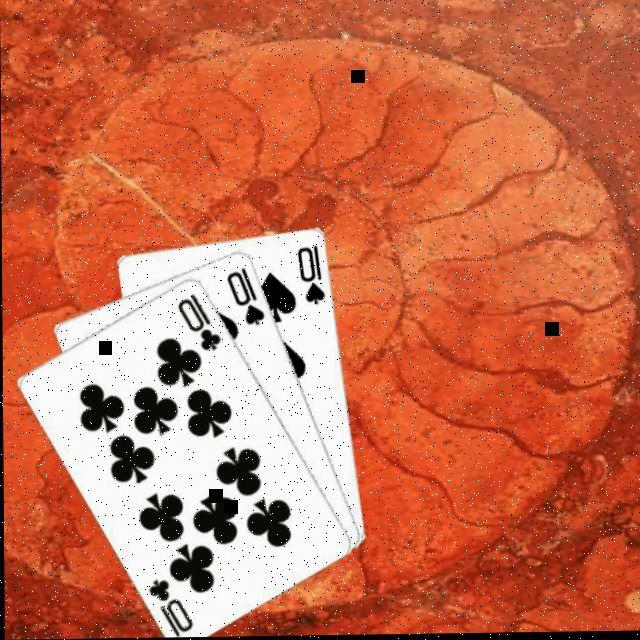10C: (176, 288, 226, 353), (147, 574, 197, 638)
10S: (225, 263, 269, 328), (296, 242, 330, 308)
